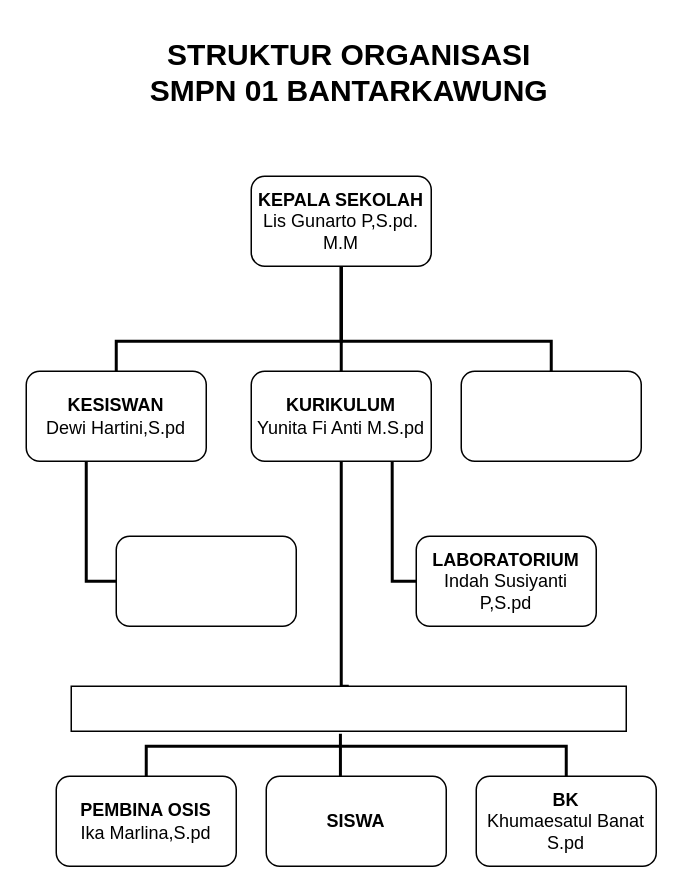
Some shapes in this 683 by 893 pixel diagram are drawn without their labels. Here are the shapes that lost their labels. From the top down, the centre of each, then its label:
the point at 550,415: WAKA HUMAS SARPAS Siti Topipah,S.Pd
the point at 205,580: KA PERPUSTAKAAN Budi Susila M.Pd
the point at 348,708: WALI KELAS
